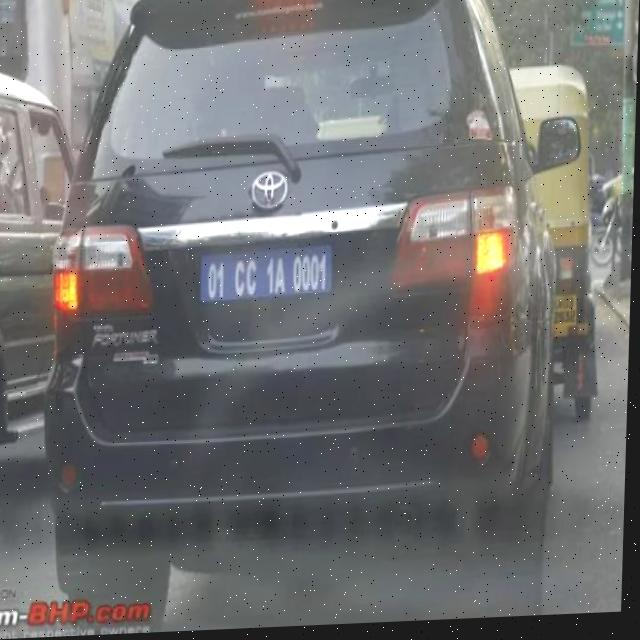plate: (198, 245, 337, 306)
